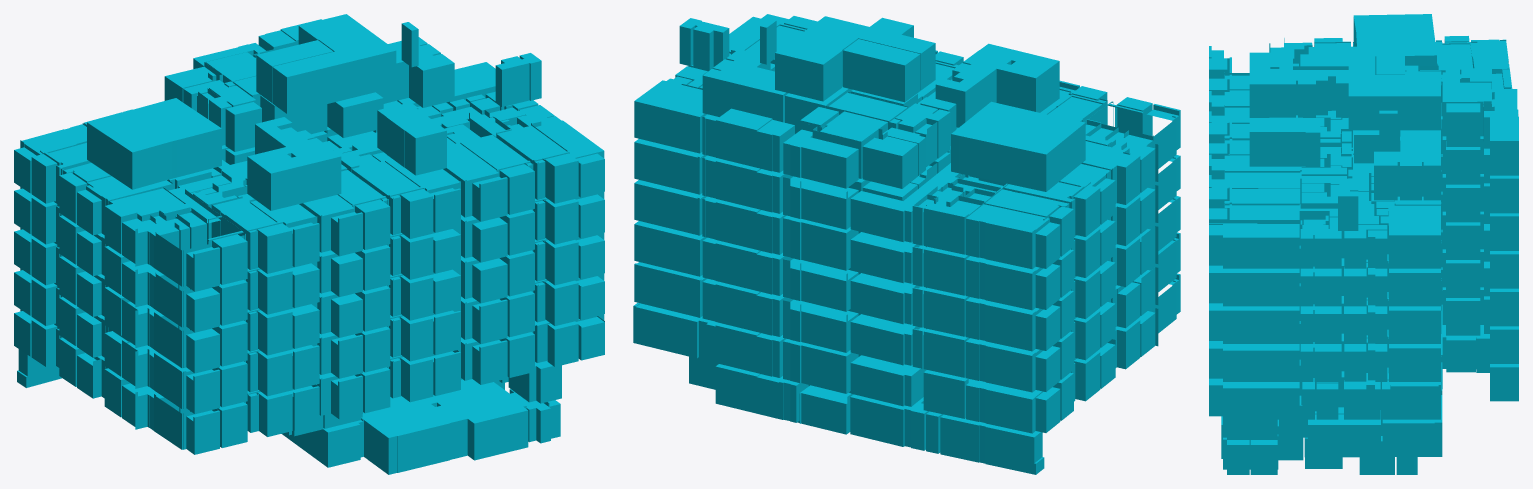
The model's file is rooms.glb.
3 renders of one model, left to right at view 1: azimuth 30°, elevation 25°; view 2: azimuth 150°, elevation 25°; view 3: azimuth 270°, elevation 25°, orthographic. The views are drawn at different scales.
Parts seen in each view (by area): view 1: DirectShape Generic Models <6010849 B00-ZONAS COMUNES/PERSON, DirectShape Generic Models <6010824 608-APT3 2TW+SOFA (APT3 , DirectShape Generic Models <6010823 606-APT3 2TW+SOFA (APT3 , DirectShape Generic Models <6010865 700-ZONAS COMUNES/PERSON, DirectShape Generic Models <6010779 508-JUNIOR SUITE PROPIED, DirectShape Generic Models <6010822 604-APT3 2TW+SOFA (APT3 , DirectShape Generic Models <6010820 601-SUPERIOR 1 KING+SOFA, DirectShape Generic Models <6010771 504-APT3 SALON 2TW+SOFA , DirectShape Generic Models <6010596 208-J SUITE QUAD PRADO (, DirectShape Generic Models <6010766 503-APT3 SALON 2TW+SOFA , DirectShape Generic Models <6010535 108-J SUITE QUAD PRADO (, DirectShape Generic Models <6010657 308-J.SUITE TW WORK OFFI (+111 smaller); view 2: DirectShape Generic Models <6010824 608-APT3 2TW+SOFA (APT3 , DirectShape Generic Models <6010823 606-APT3 2TW+SOFA (APT3 , DirectShape Generic Models <6010787 510-APT3 2TW+SOFA (APT3 , DirectShape Generic Models <6010820 601-SUPERIOR 1 KING+SOFA, DirectShape Generic Models <6010848 E00-ZONAS COMUNES/PERSON, DirectShape Generic Models <6010763 502-SUPERIOR 2 TWIN+SOFA, DirectShape Generic Models <6010866 700-ZONAS COMUNES/PERSON, DirectShape Generic Models <6010665 310-APT3 2TW+SOFA (APT3 , DirectShape Generic Models <6010726 410-APT3 2TW+SOFA (APT3 , DirectShape Generic Models <6010604 210-APT5 3TW+2SOFA (APT5, DirectShape Generic Models <6010543 110-APT4 2TW+2SOFA (APT4, DirectShape Generic Models <6010867 700-ZONAS COMUNES/PERSON (+83 smaller); view 3: DirectShape Generic Models <6010823 606-APT3 2TW+SOFA (APT3 , DirectShape Generic Models <6010820 601-SUPERIOR 1 KING+SOFA, DirectShape Generic Models <6010767 503-APT3 SALON 2TW+SOFA , DirectShape Generic Models <6010763 502-SUPERIOR 2 TWIN+SOFA, DirectShape Generic Models <6010822 604-APT3 2TW+SOFA (APT3 , DirectShape Generic Models <6010706 403-APT3 SALON 2TW+SOFA , DirectShape Generic Models <6010523 103-APARTAMENTO PREMIUM , DirectShape Generic Models <6010584 203-APT5 3TW+2SOFA (APT5, DirectShape Generic Models <6010645 303-APT3 SALON 2TW+SOFA , DirectShape Generic Models <6010824 608-APT3 2TW+SOFA (APT3 , DirectShape Generic Models <6010833 E00-ZONAS COMUNES/PERSON, DirectShape Generic Models <6010866 700-ZONAS COMUNES/PERSON (+77 smaller).
Part boxes in pixels (<box>): DirectShape Generic Models <6010849 B00-ZONAS COMUNES/PERSON: <box>281,380,528,474</box>; DirectShape Generic Models <6010824 608-APT3 2TW+SOFA (APT3 : <box>87,98,221,189</box>; DirectShape Generic Models <6010823 606-APT3 2TW+SOFA (APT3 : <box>247,117,341,210</box>; DirectShape Generic Models <6010865 700-ZONAS COMUNES/PERSON: <box>272,36,396,113</box>; DirectShape Generic Models <6010779 508-JUNIOR SUITE PROPIED: <box>154,171,245,291</box>; DirectShape Generic Models <6010822 604-APT3 2TW+SOFA (APT3 : <box>377,102,446,175</box>; DirectShape Generic Models <6010820 601-SUPERIOR 1 KING+SOFA: <box>376,37,454,107</box>; DirectShape Generic Models <6010771 504-APT3 SALON 2TW+SOFA : <box>443,143,507,221</box>; DirectShape Generic Models <6010596 208-J SUITE QUAD PRADO (: <box>154,353,245,413</box>; DirectShape Generic Models <6010766 503-APT3 SALON 2TW+SOFA : <box>468,110,569,199</box>; DirectShape Generic Models <6010535 108-J SUITE QUAD PRADO (: <box>154,394,245,454</box>; DirectShape Generic Models <6010657 308-J.SUITE TW WORK OFFI: <box>154,312,245,373</box>; DirectShape Generic Models <6010824 608-APT3 2TW+SOFA (APT3 : <box>951,101,1085,191</box>; DirectShape Generic Models <6010823 606-APT3 2TW+SOFA (APT3 : <box>935,43,1059,127</box>; DirectShape Generic Models <6010787 510-APT3 2TW+SOFA (APT3 : <box>965,203,1060,269</box>; DirectShape Generic Models <6010820 601-SUPERIOR 1 KING+SOFA: <box>702,49,788,122</box>; DirectShape Generic Models <6010848 E00-ZONAS COMUNES/PERSON: <box>940,414,1044,474</box>; DirectShape Generic Models <6010763 502-SUPERIOR 2 TWIN+SOFA: <box>634,80,706,153</box>; DirectShape Generic Models <6010866 700-ZONAS COMUNES/PERSON: <box>775,30,853,101</box>; DirectShape Generic Models <6010665 310-APT3 2TW+SOFA (APT3 : <box>965,297,1060,351</box>; DirectShape Generic Models <6010726 410-APT3 2TW+SOFA (APT3 : <box>965,255,1060,310</box>; DirectShape Generic Models <6010604 210-APT5 3TW+2SOFA (APT5: <box>965,338,1060,392</box>; DirectShape Generic Models <6010543 110-APT4 2TW+2SOFA (APT4: <box>966,379,1060,433</box>; DirectShape Generic Models <6010867 700-ZONAS COMUNES/PERSON: <box>843,39,920,102</box>; DirectShape Generic Models <6010823 606-APT3 2TW+SOFA (APT3 : <box>1249,52,1348,117</box>; DirectShape Generic Models <6010820 601-SUPERIOR 1 KING+SOFA: <box>1374,130,1440,200</box>; DirectShape Generic Models <6010767 503-APT3 SALON 2TW+SOFA : <box>1209,223,1299,268</box>; DirectShape Generic Models <6010763 502-SUPERIOR 2 TWIN+SOFA: <box>1376,205,1440,268</box>; DirectShape Generic Models <6010822 604-APT3 2TW+SOFA (APT3 : <box>1249,117,1320,167</box>; DirectShape Generic Models <6010706 403-APT3 SALON 2TW+SOFA : <box>1209,265,1299,306</box>; DirectShape Generic Models <6010523 103-APARTAMENTO PREMIUM : <box>1209,378,1299,419</box>; DirectShape Generic Models <6010584 203-APT5 3TW+2SOFA (APT5: <box>1209,341,1299,381</box>; DirectShape Generic Models <6010645 303-APT3 SALON 2TW+SOFA : <box>1209,303,1299,343</box>; DirectShape Generic Models <6010824 608-APT3 2TW+SOFA (APT3 : <box>1353,14,1436,74</box>; DirectShape Generic Models <6010833 E00-ZONAS COMUNES/PERSON: <box>1279,362,1442,456</box>; DirectShape Generic Models <6010866 700-ZONAS COMUNES/PERSON: <box>1384,74,1440,130</box>.
Size of the model in its own units: 33.36 by 26.15 by 21.96.
